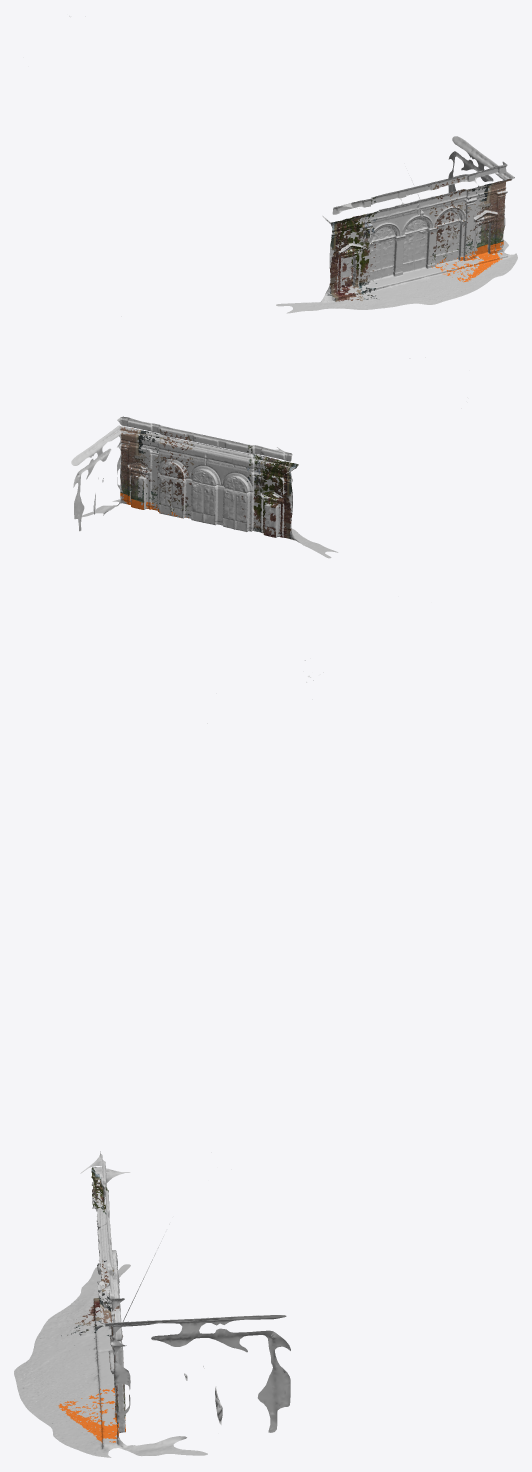
File: meshWithTexture.fbx
The picture shows the model from 3 angles, top to bottom: view 1: azimuth 30°, elevation 25°; view 2: azimuth 150°, elevation 25°; view 3: azimuth 270°, elevation 25°; orthographic projection. The views are drawn at different scales.
Visible parts, largest first — view 1: scene_dense_mesh_refine_texture; view 2: scene_dense_mesh_refine_texture; view 3: scene_dense_mesh_refine_texture.
Boxes of the visible parts, box(x1,y1,x2,y2) form: scene_dense_mesh_refine_texture: box(69, 16, 517, 313); scene_dense_mesh_refine_texture: box(71, 357, 425, 558); scene_dense_mesh_refine_texture: box(14, 660, 323, 1457).
Size of the model in its own units: 16.31 by 10 by 9.37.
